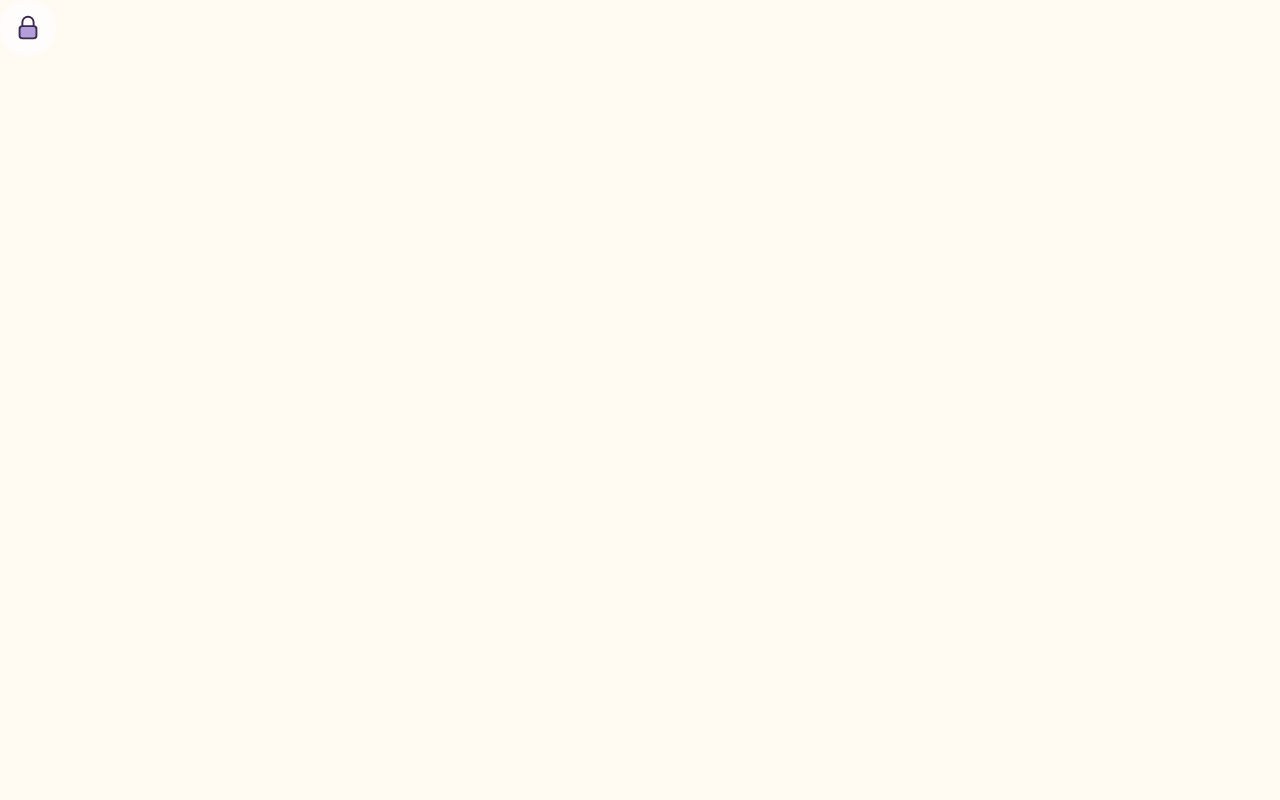
Test case: ParentGate › holding 3 s opens the pad; a wrong PIN stays locked, the right one unlocks
This screenshot has width=1280, height=800.
Later steps or results of the test are not shown.
Press the mouse on the button with test id "lock" at (28, 28), box [0,0,56,56]
Wait 3010 ms
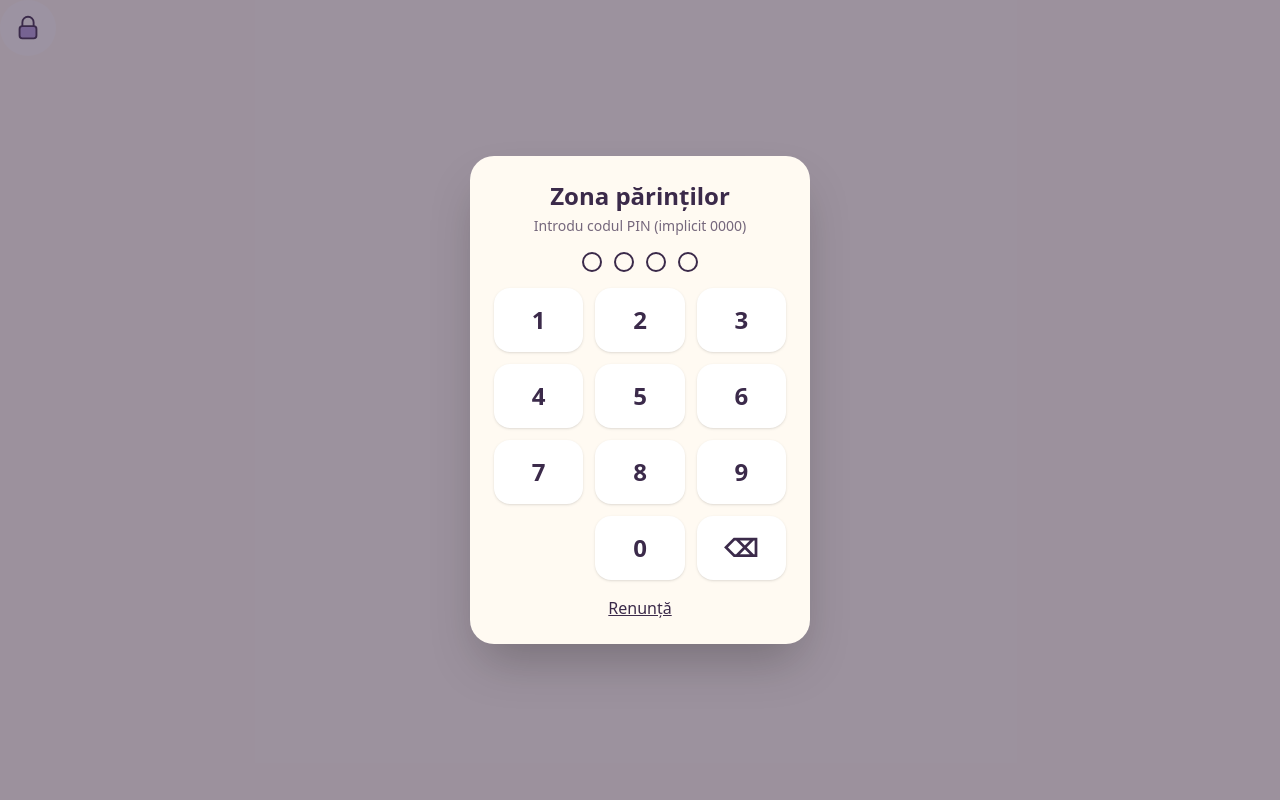
Now the element with test id "pin-pad" is shown
